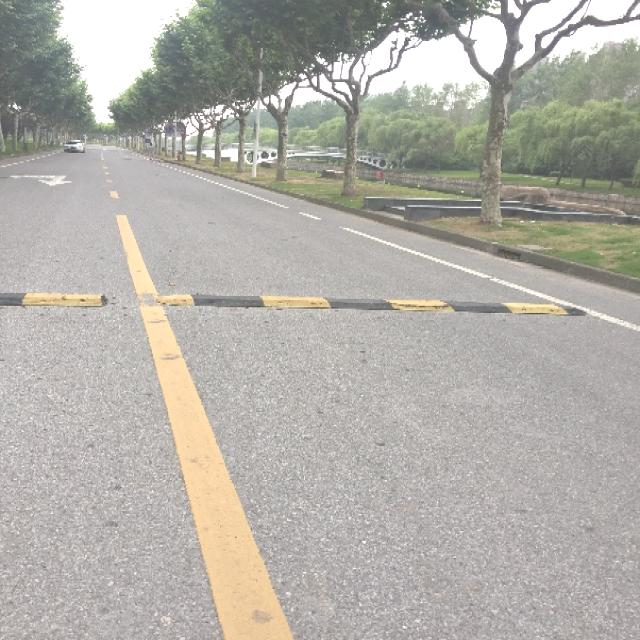Speed Bump: (2, 282, 594, 324)
